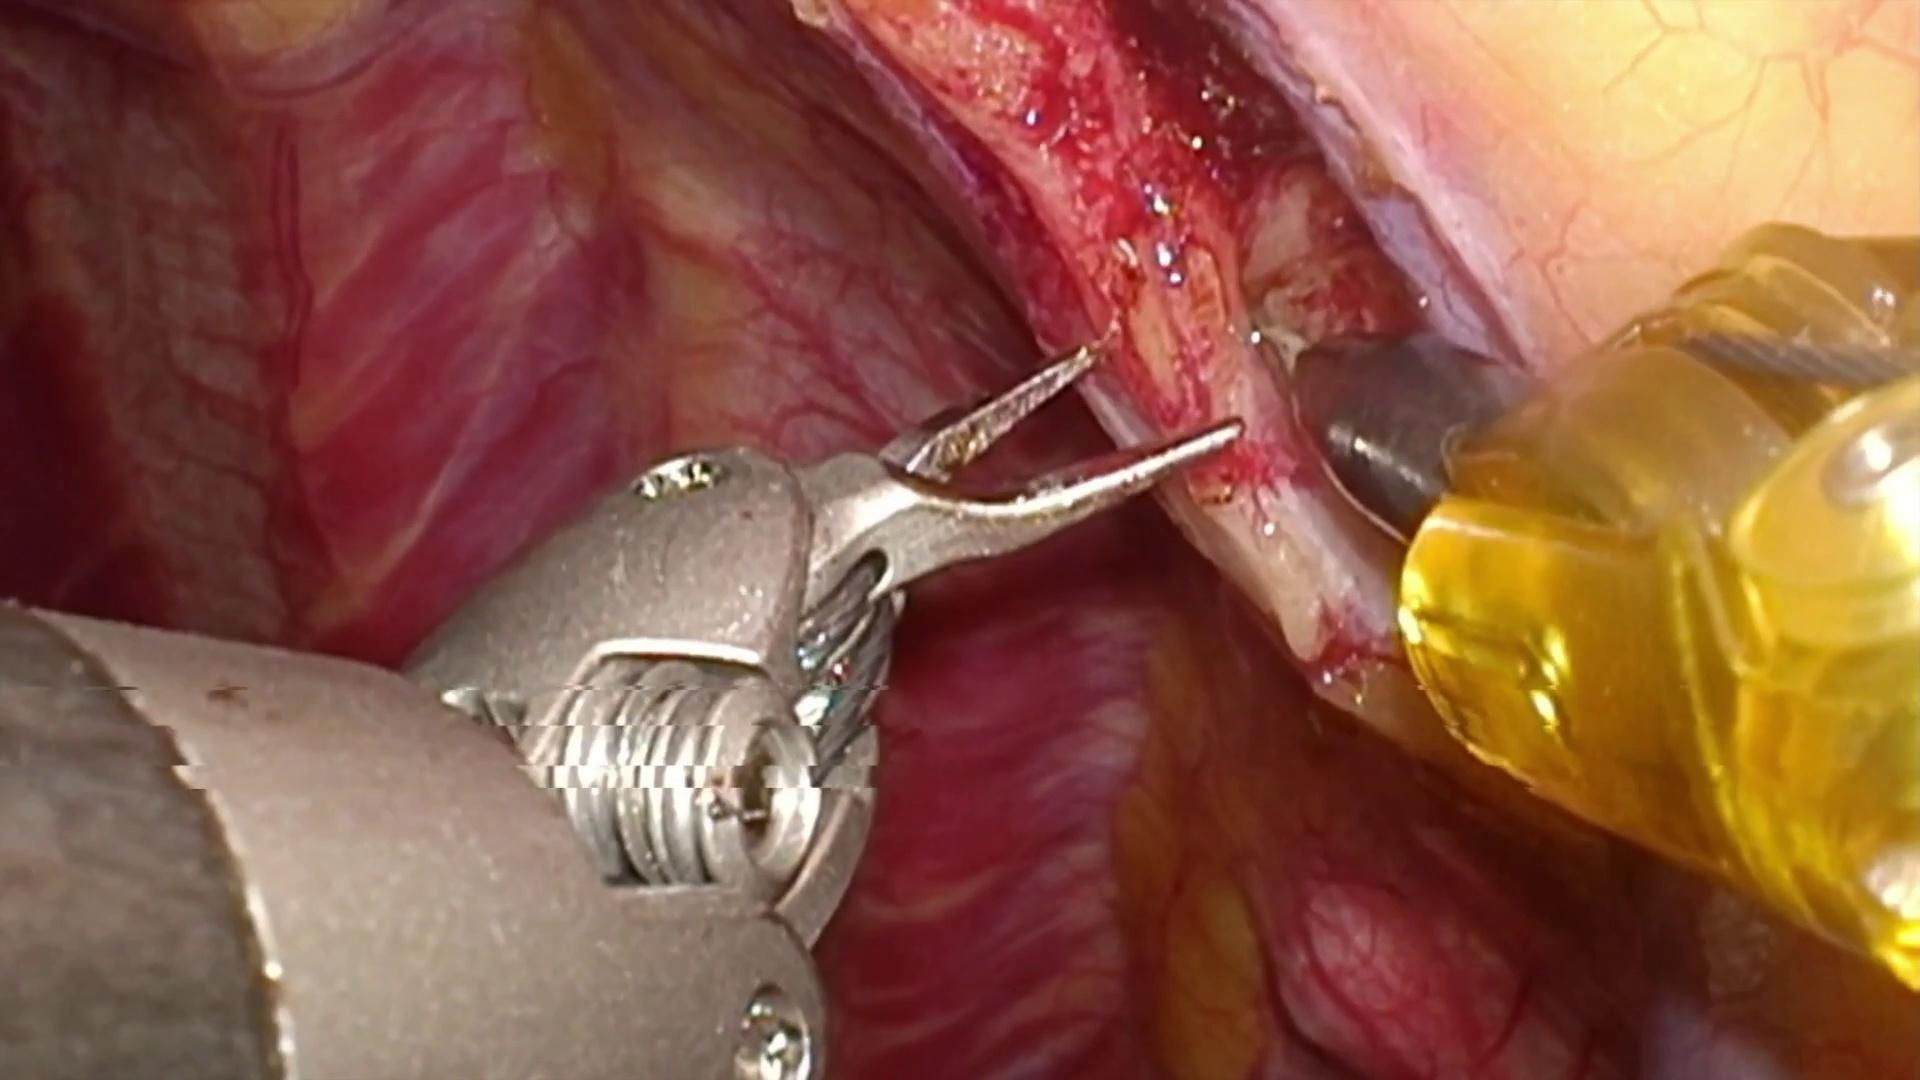Cautery_Spatula: (1242, 298, 1547, 547)
Debakey: (785, 320, 1247, 615)
